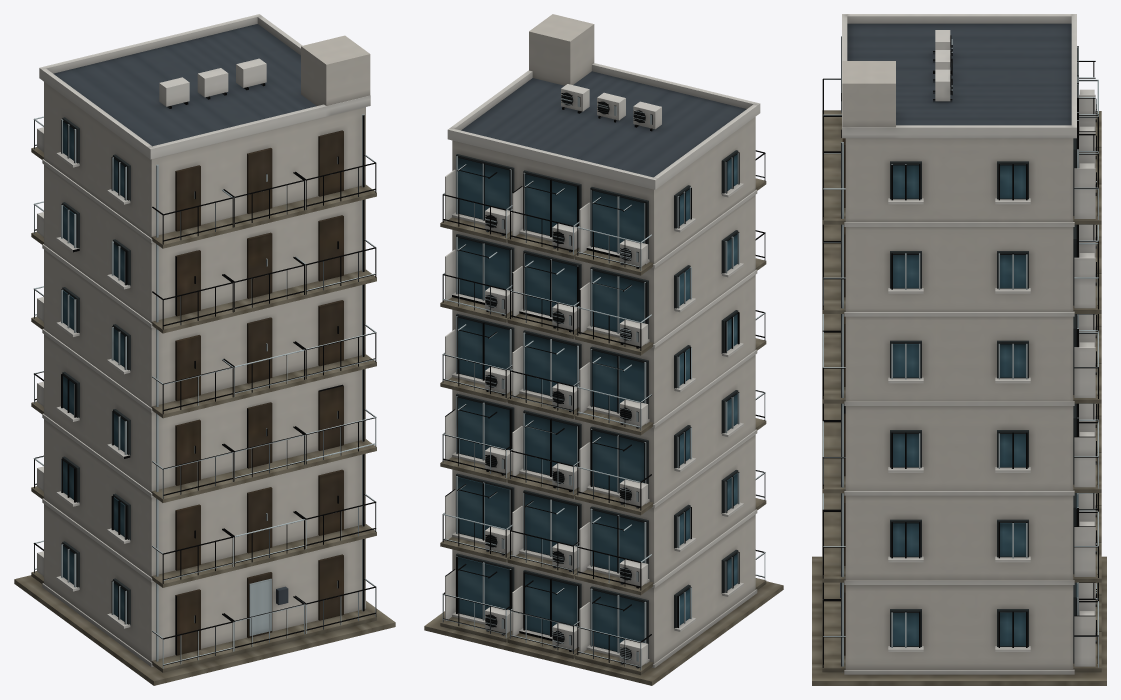
File: residential_017.obj
3 views of the same model, side by side, from view 1: azimuth 30°, elevation 25°; view 2: azimuth 150°, elevation 25°; view 3: azimuth 270°, elevation 25° (orthographic). The views are drawn at different scales.
Parts seen in each view (by area): view 1: residential_017; view 2: residential_017; view 3: residential_017.
Boxes of the visible parts, left/top/right/bottom form: residential_017: left=14, top=14, right=395, bottom=685; residential_017: left=424, top=14, right=783, bottom=685; residential_017: left=812, top=14, right=1106, bottom=685.
Bounding box in the file's own units: 8.8 × 19.66 × 8.8.
1 material, 1 textured.
